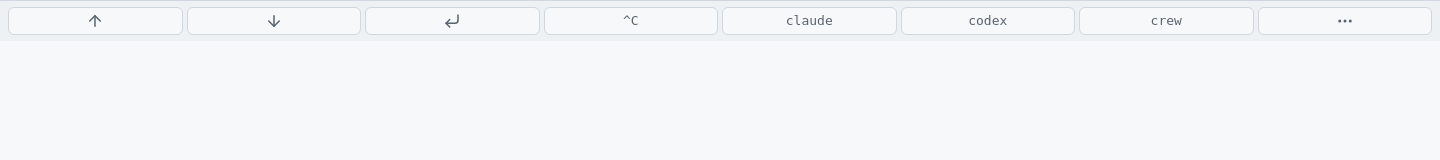
MobileKeyBar › more-keys flips to page 2 and back
Press the mouse on the button named "more-keys": (1345, 21) [1258,7,1432,35]
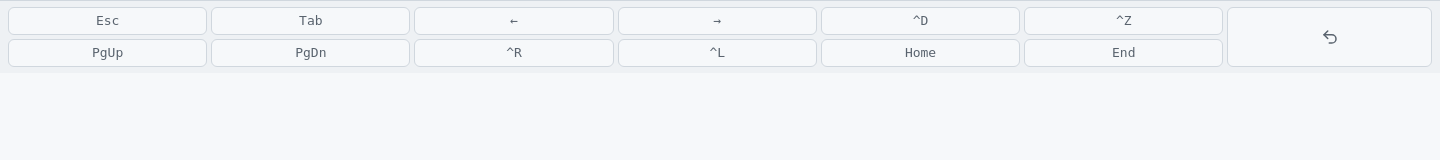
Expected: the button labelled "Esc" is shown
Expected: the button labelled "Tab" is shown, [211,7,410,35]
Expected: the button named "left" is shown, [414,7,614,35]
Press the mouse on the button labelled "Esc": (108, 21) [8,7,207,35]
Press the mouse on the button named "more-keys": (1330, 37) [1227,7,1432,67]
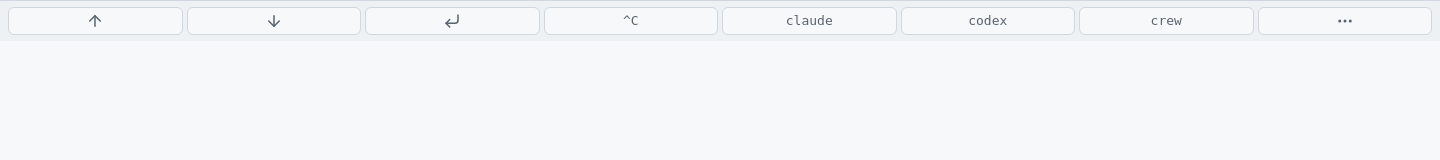
Expected: the button labelled "claude" is shown, [722,7,896,35]
